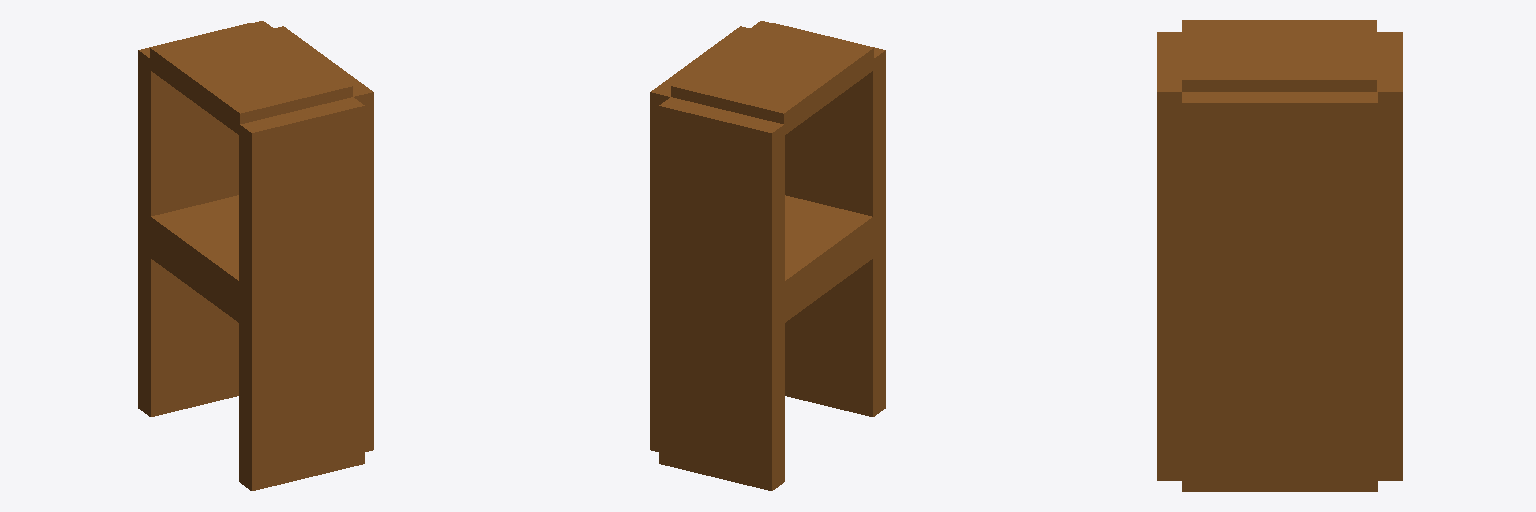
URDF robot description (dummy):
<?xml version="1.0"?>
<robot name="dummy">
  <link name="bottom_wall">
    <visual>
      <origin xyz="0.0 0.0 0.3174078508078116" rpy="0 0 0"/>
      <geometry>
        <mesh filename="bottom_wall.obj" scale="1 1 1"/>
      </geometry>
      <material name="brown">
        <color rgba="0.6 0.4 0.2 1.0"/>
      </material>
    </visual>
    <collision>
      <origin xyz="0.0 0.0 0.3174078508078116" rpy="0 0 0"/>
      <geometry>
        <mesh filename="bottom_wall.obj" scale="1 1 1"/>
      </geometry>
    </collision>
  </link>

  <link name="left_wall">
    <visual>
      <origin xyz="0.0 -0.18281503300214172 0.0" rpy="0 0 0"/>
      <geometry>
        <mesh filename="vertical_wall.obj" scale="1 1 1"/>
      </geometry>
      <material name="brown">
        <color rgba="0.6 0.4 0.2 1.0"/>
      </material>
    </visual>
    <collision>
      <origin xyz="0.0 -0.18281503300214172 0.0" rpy="0 0 0"/>
      <geometry>
        <mesh filename="vertical_wall.obj" scale="1 1 1"/>
      </geometry>
    </collision>
  </link>

  <link name="right_wall">
    <visual>
      <origin xyz="0.0 0.18281503300214172 0.0" rpy="0 0 0"/>
      <geometry>
        <mesh filename="vertical_wall.obj" scale="1 1 1"/>
      </geometry>
      <material name="brown">
        <color rgba="0.6 0.4 0.2 1.0"/>
      </material>
    </visual>
    <collision>
      <origin xyz="0.0 0.18281503300214172 0.0" rpy="0 0 0"/>
      <geometry>
        <mesh filename="vertical_wall.obj" scale="1 1 1"/>
      </geometry>
    </collision>
  </link>

  <link name="back_wall">
    <visual>
      <origin xyz="0.13797990145908018 0.0 0.0" rpy="0 0 0"/>
      <geometry>
        <mesh filename="back_wall.obj" scale="1 1 1"/>
      </geometry>
      <material name="brown">
        <color rgba="0.6 0.4 0.2 1.0"/>
      </material>
    </visual>
    <collision>
      <origin xyz="0.13797990145908018 0.0 0.0" rpy="0 0 0"/>
      <geometry>
        <mesh filename="back_wall.obj" scale="1 1 1"/>
      </geometry>
    </collision>
  </link>

  <link name="top_wall">
    <visual>
      <origin xyz="0.0 0.0 0.6912927102289682" rpy="0 0 0"/>
      <geometry>
        <mesh filename="top_wall.obj" scale="1 1 1"/>
      </geometry>
      <material name="brown">
        <color rgba="0.6 0.4 0.2 1.0"/>
      </material>
    </visual>
    <collision>
      <origin xyz="0.0 0.0 0.6912927102289682" rpy="0 0 0"/>
      <geometry>
        <mesh filename="top_wall.obj" scale="1 1 1"/>
      </geometry>
    </collision>
  </link>

  <joint name="left_wall_joint" type="fixed">
    <origin xyz="0 0 0" rpy="0 0 0"/>
    <parent link="bottom_wall"/>
    <child link="left_wall"/>
  </joint>

  <joint name="right_wall_joint" type="fixed">
    <origin xyz="0 0 0" rpy="0 0 0"/>
    <parent link="bottom_wall"/>
    <child link="right_wall"/>
  </joint>

  <joint name="back_wall_joint" type="fixed">
    <origin xyz="0 0 0" rpy="0 0 0"/>
    <parent link="bottom_wall"/>
    <child link="back_wall"/>
  </joint>

  <joint name="top_wall_joint" type="fixed">
    <origin xyz="0 0 0" rpy="0 0 0"/>
    <parent link="bottom_wall"/>
    <child link="top_wall"/>
  </joint>

</robot>

--- Render facts (derived) ---
3 views of the same robot in one strip: view 1: azimuth 30°, elevation 25°; view 2: azimuth 150°, elevation 25°; view 3: azimuth 270°, elevation 25° (orthographic).
Model dummy with 5 links and 4 joints (4 fixed), rooted at bottom_wall, posed every joint at zero.
Visible links, largest first — view 1: left_wall, right_wall, top_wall, bottom_wall, back_wall; view 2: right_wall, left_wall, top_wall, bottom_wall, back_wall; view 3: back_wall, top_wall, right_wall, left_wall.
Link boxes in pixels (x1,y1,x2,y2): left_wall: [239, 97, 364, 490]; right_wall: [138, 23, 250, 416]; top_wall: [150, 21, 352, 134]; bottom_wall: [151, 195, 238, 322]; back_wall: [274, 26, 373, 451]; right_wall: [659, 97, 784, 490]; left_wall: [773, 23, 885, 416]; top_wall: [671, 21, 873, 134]; bottom_wall: [785, 195, 872, 322]; back_wall: [650, 26, 749, 451]; back_wall: [1182, 91, 1377, 491]; top_wall: [1182, 20, 1376, 91]; right_wall: [1377, 32, 1402, 480]; left_wall: [1157, 32, 1181, 480].
Bounding box of the posed robot: 0.279 × 0.4109 × 0.7363 m (x, y, z).
Meshes: 4 distinct files referenced, 5 mesh visuals loaded (4 OBJ).
